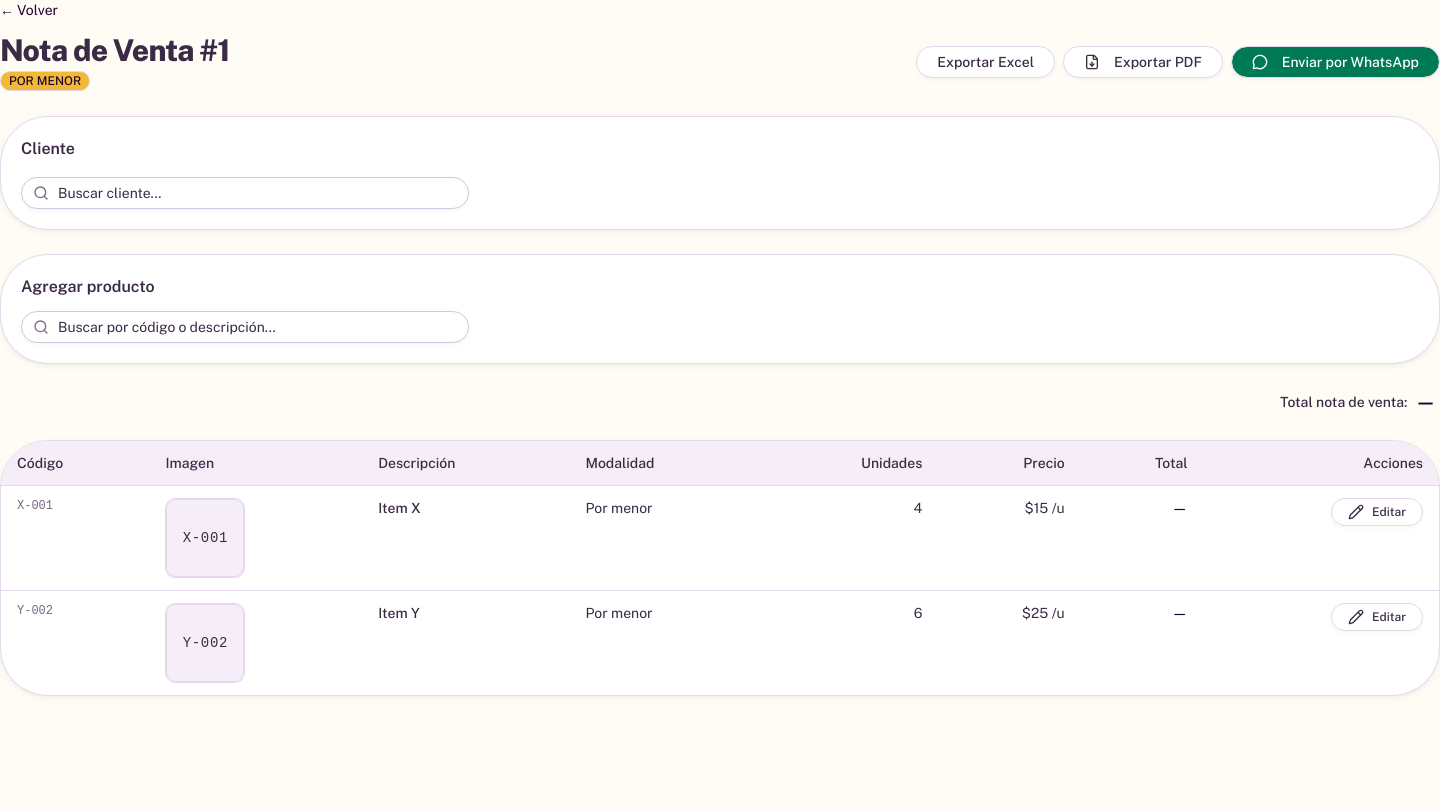
it: Notas de Venta — auto-focus (Punto 2 del contrato) › [ESTADO COMPARTIDO] autoFocusItemId no interfiere con click manual en Editar de otra fila
The image size is (1440, 810).
Expected: the 1st text "X-001" is shown, [1, 486, 149, 590]
Expected: the 1st text "Y-002" is shown, [1, 590, 149, 695]
Click the button "Editar" in the row of "Item Y": [1377, 617] box [1331, 603, 1423, 631]
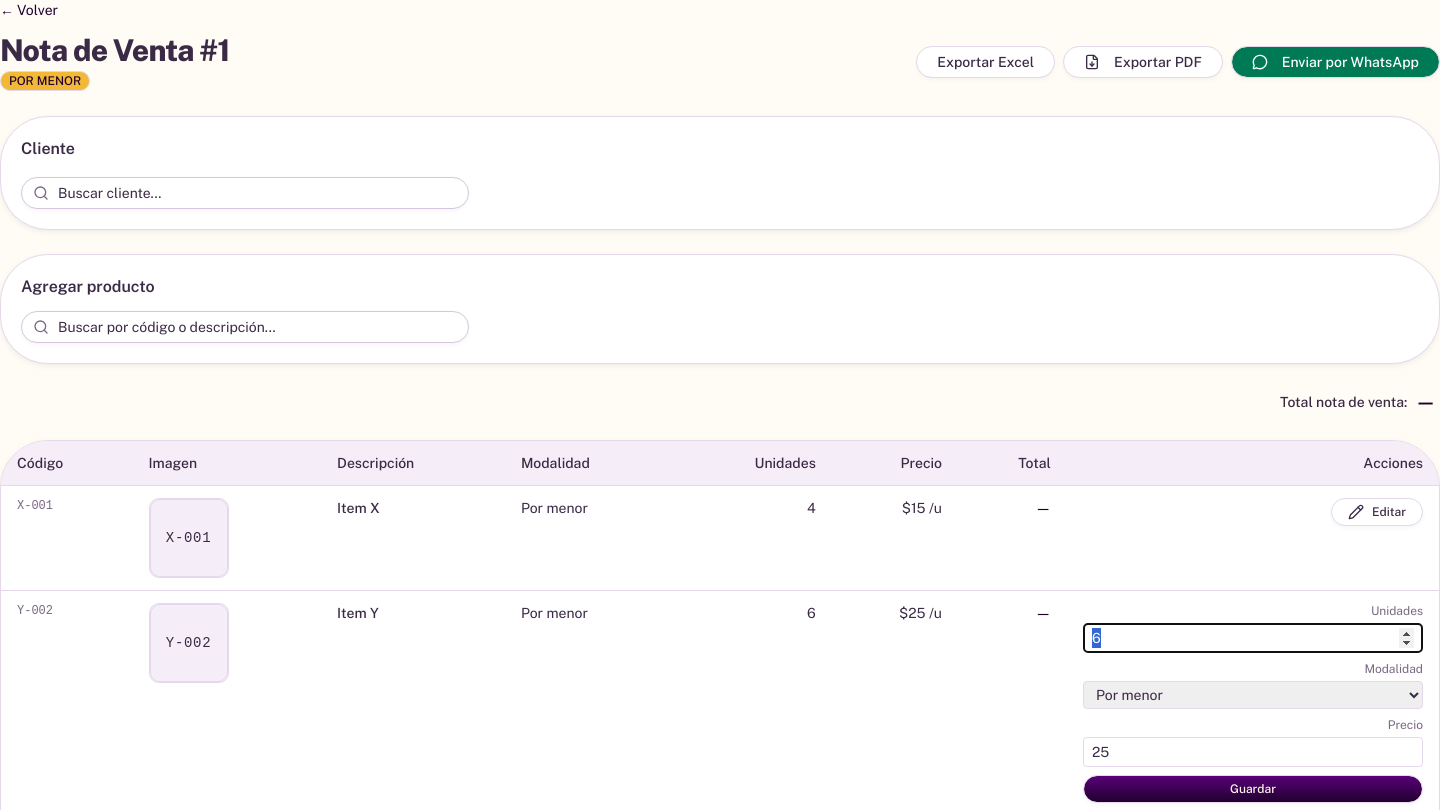
Expected: the 2nd number field is shown, [1083, 737, 1423, 767]
